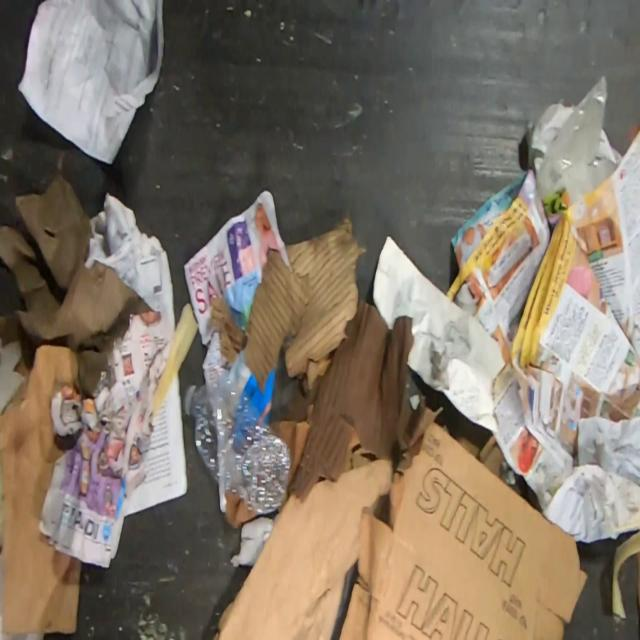cardboard: (337, 419, 588, 640), (213, 457, 397, 640), (290, 302, 442, 497), (211, 209, 368, 393), (0, 343, 82, 635), (230, 351, 276, 423), (456, 434, 516, 486), (270, 419, 309, 486), (226, 492, 258, 529)
rigid_plastic: (184, 370, 292, 515)
soft_plastic: (538, 76, 616, 205)
